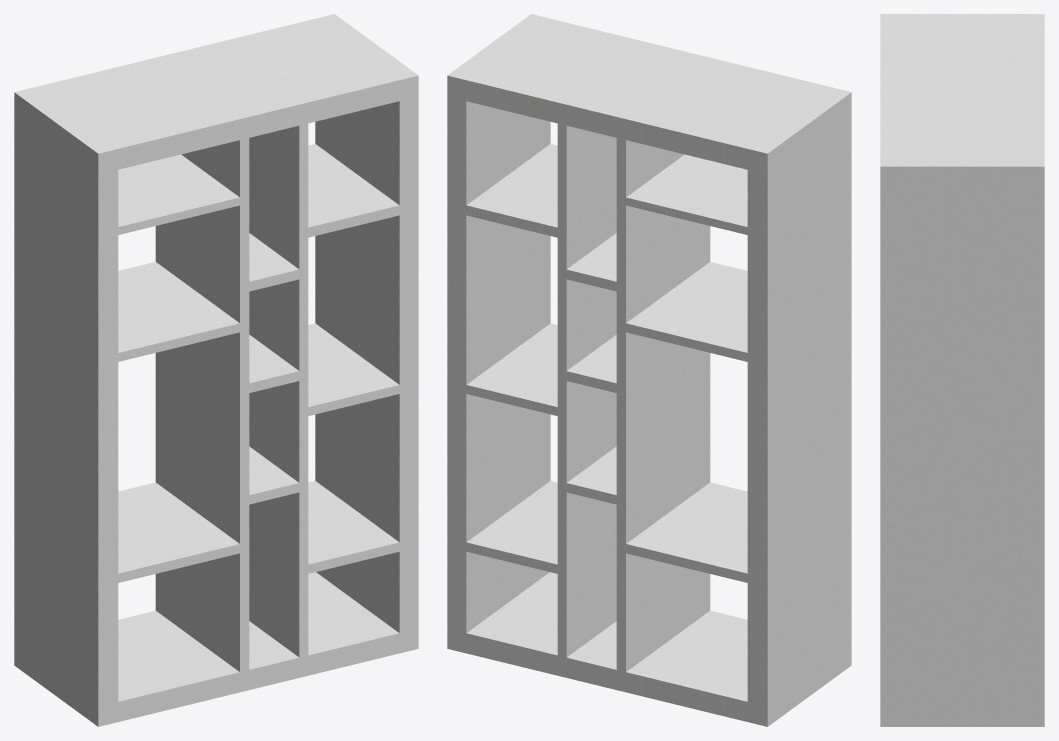
The model's file is KAL_Shelf.obj.
3 renders of one model, left to right at view 1: azimuth 30°, elevation 25°; view 2: azimuth 150°, elevation 25°; view 3: azimuth 270°, elevation 25°, orthographic. The views are drawn at different scales.
Parts seen in each view (by area): view 1: pCube8; view 2: pCube8; view 3: pCube8.
Part boxes in pixels (x1,y1,x2,y2): pCube8: [14, 14, 418, 726]; pCube8: [447, 14, 851, 726]; pCube8: [880, 14, 1044, 726].
Bounding box in the file's own units: 8.6 × 14.7 × 3.91.
1 material, 1 textured.
